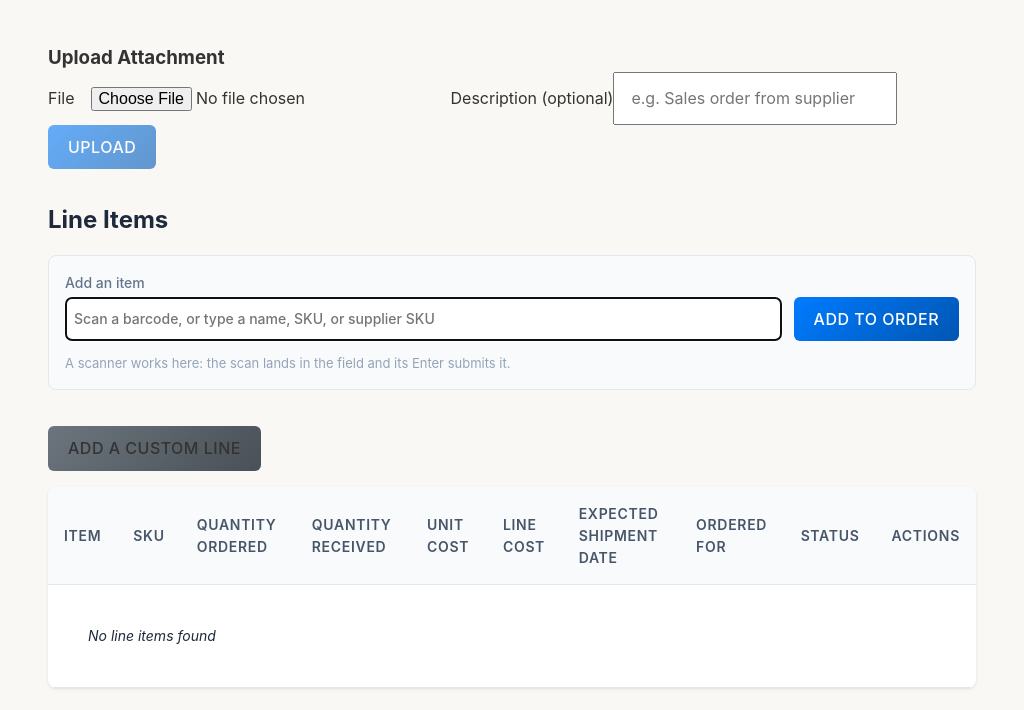
PurchaseOrderPage — adding a custom (freeform) line › a custom line with no price is refused before it reaches the server
(page scrolled)
Click the button "Add a custom line". click: (154, 449)
box: [48,426,261,471]
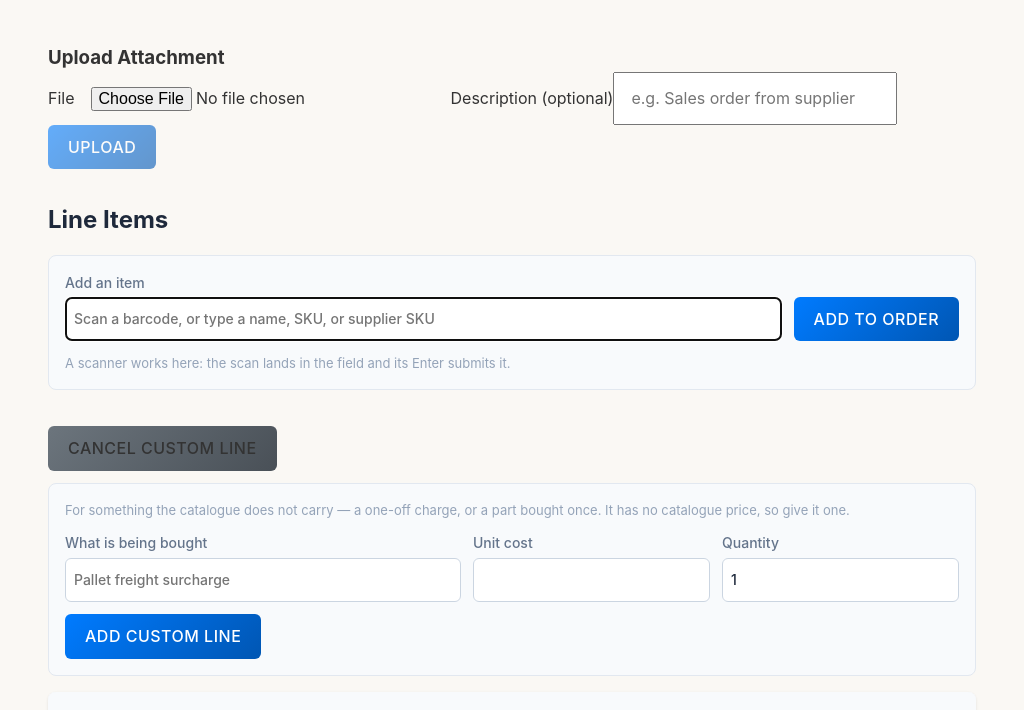
Type "Mystery charge" into the field labelled "What is being bought". click: (263, 580)
box: [65,558,461,602]
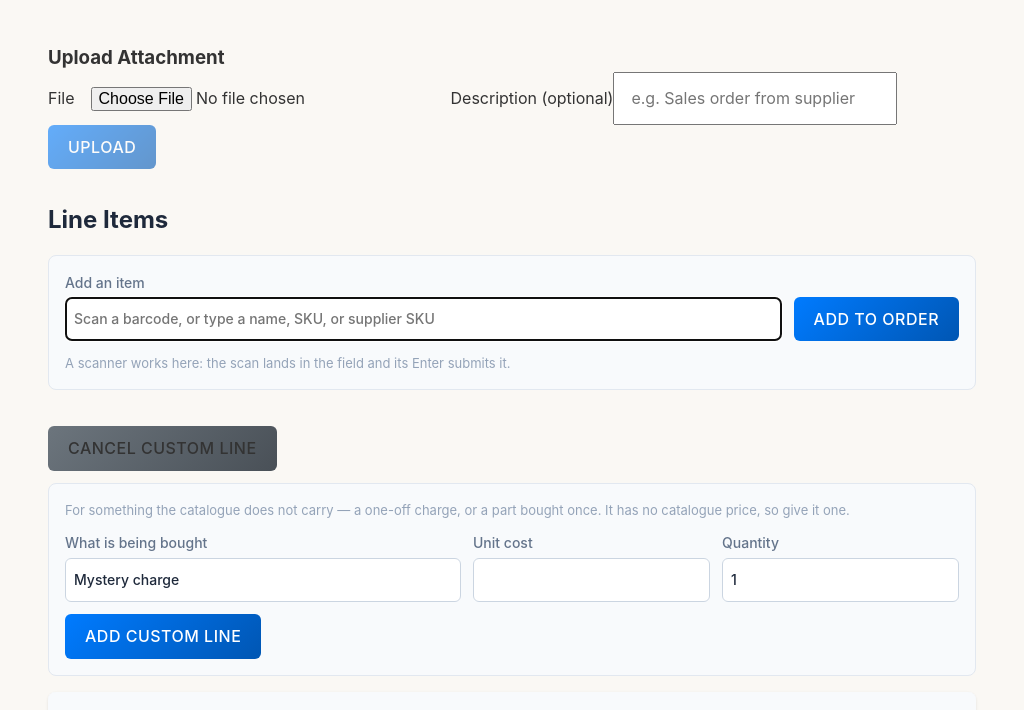
Click the button "Add custom line". click: (163, 636)
box: [65,614,261,659]
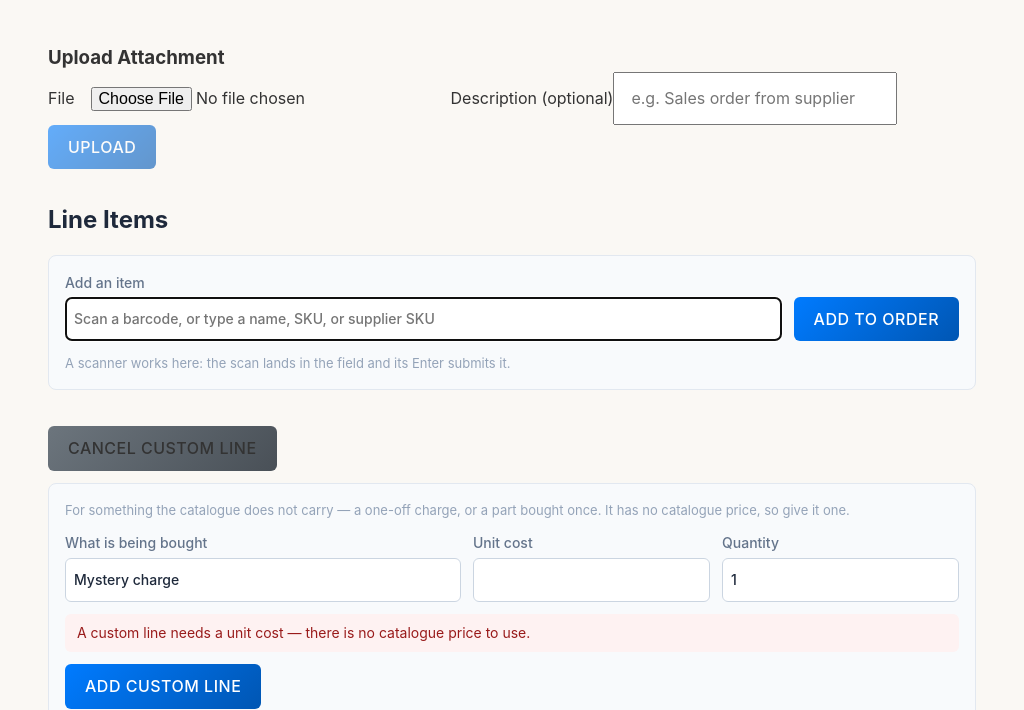
Expected: the message shows "needs a unit cost", [77,624,530,641]
